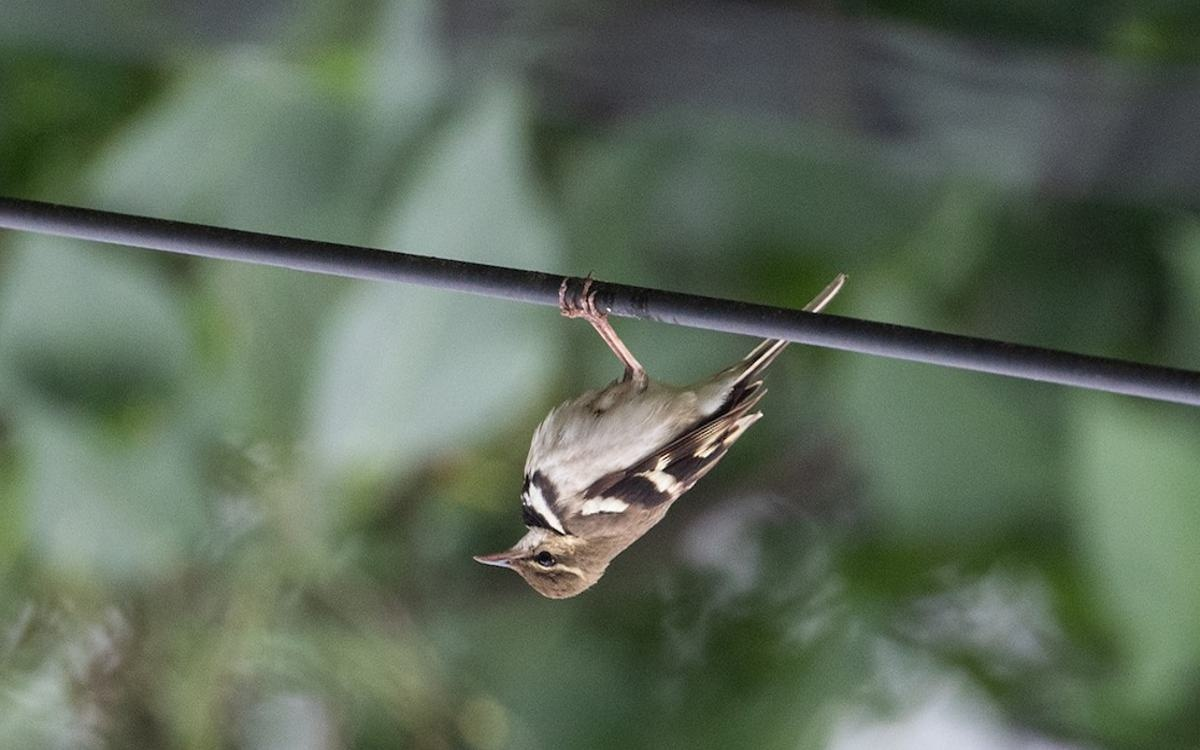wagtail: (501, 281, 838, 616)
